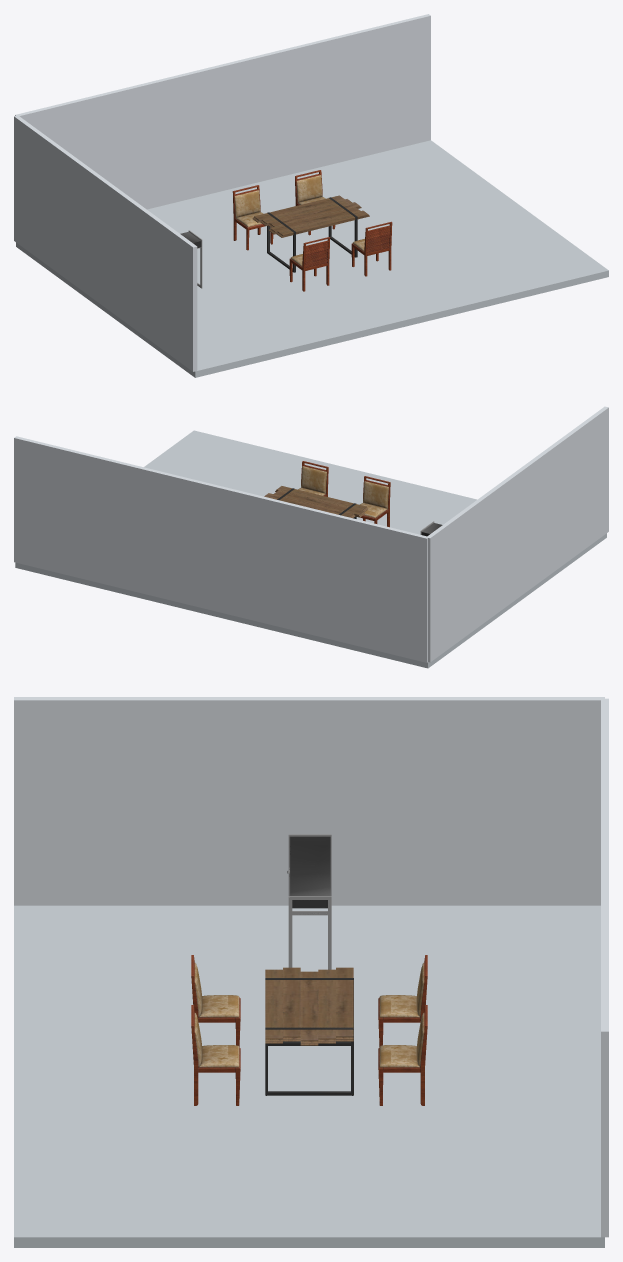
The model's file is stage1.glb.
The picture shows the model from 3 angles, top to bottom: view 1: azimuth 30°, elevation 25°; view 2: azimuth 150°, elevation 25°; view 3: azimuth 270°, elevation 25°; orthographic projection. The views are drawn at different scales.
Parts seen in each view (by area): view 1: Floor, wall_back, wall_left, raw_model, solid_001.001, solid_001, solid_002.003, solid_002.002, solid_001.003; view 2: wall_back, wall_left, Floor, raw_model, solid_002.001, solid_002, solid_001.001; view 3: Floor, wall_left, raw_model, wall_back, raw_model.001, solid_002.003, solid_002.002, solid_002, solid_002.001, solid_001.002, solid_001.
Part boxes in pixels (box(x1,y1,x2,y2)): Floor: box(16, 140, 608, 377); wall_back: box(15, 14, 430, 209); wall_left: box(14, 116, 197, 371); raw_model: box(252, 195, 369, 272); solid_001.001: box(289, 237, 330, 291); solid_001: box(351, 221, 392, 276); solid_002.003: box(234, 190, 263, 227); solid_002.002: box(296, 175, 325, 204); solid_001.003: box(232, 185, 273, 250); wall_back: box(14, 436, 428, 662); wall_left: box(427, 406, 608, 662); Floor: box(15, 430, 606, 668); raw_model: box(264, 486, 368, 518); solid_002.001: box(360, 481, 388, 517); solid_002: box(298, 466, 326, 495); solid_001.001: box(360, 476, 390, 527); Floor: box(14, 905, 604, 1247); wall_left: box(14, 697, 604, 905); raw_model: box(265, 967, 353, 1095); wall_back: box(601, 698, 608, 1237); raw_model.001: box(287, 834, 331, 969); solid_002.003: box(379, 963, 424, 1017); solid_002.002: box(379, 1013, 424, 1067); solid_002: box(194, 1013, 239, 1067); solid_002.001: box(194, 963, 239, 1017); solid_001.002: box(378, 1005, 427, 1105); solid_001: box(191, 1005, 240, 1105).
Size of the model in its own units: 8.04 by 2.42 by 6.04.
8 materials, 6 textured.
